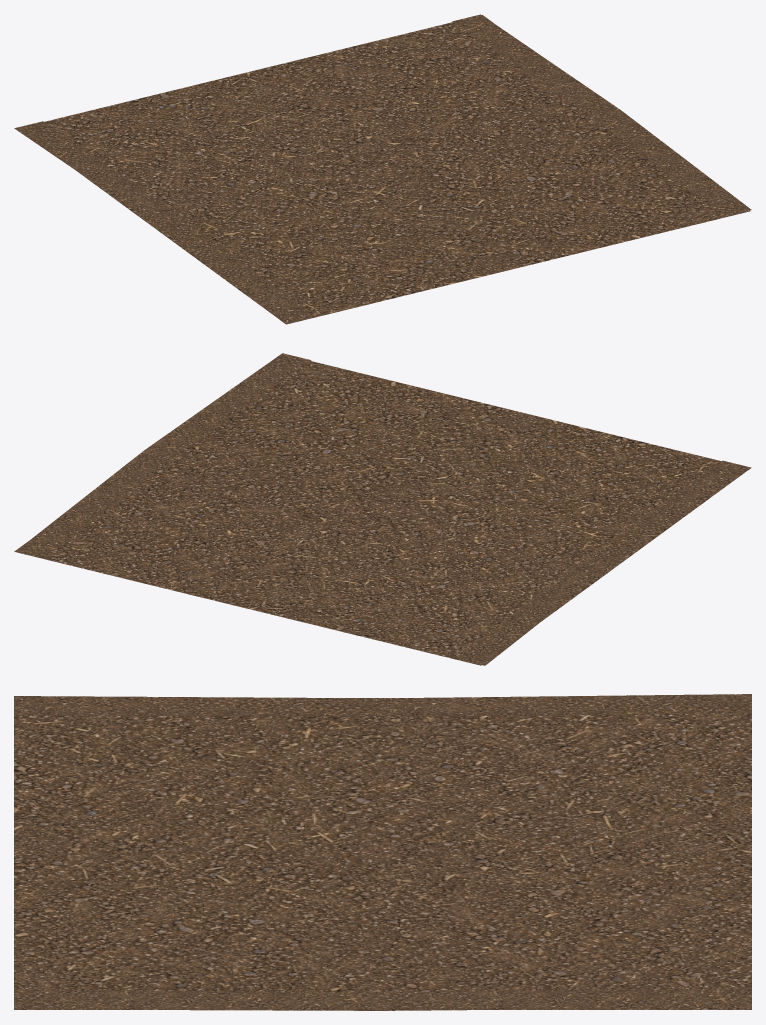
The model's file is Path_Tile_8.glb.
3 views of the same model, one above another, from view 1: azimuth 30°, elevation 25°; view 2: azimuth 150°, elevation 25°; view 3: azimuth 270°, elevation 25° (orthographic). The views are drawn at different scales.
Parts seen in each view (by area): view 1: HW_PathTile8_Export, HW_PathTile8_Shoulder_-1_Export, HW_PathTile8_Shoulder_1_Export; view 2: HW_PathTile8_Export, HW_PathTile8_Shoulder_1_Export, HW_PathTile8_Shoulder_-1_Export; view 3: HW_PathTile8_Export, HW_PathTile8_Shoulder_1_Export, HW_PathTile8_Shoulder_-1_Export.
Part boxes in pixels (x1=…): HW_PathTile8_Export: x1=44, y1=15, x2=750, y2=324; HW_PathTile8_Shoulder_-1_Export: x1=14, y1=121, x2=313, y2=323; HW_PathTile8_Shoulder_1_Export: x1=452, y1=14, x2=751, y2=216; HW_PathTile8_Export: x1=14, y1=361, x2=739, y2=665; HW_PathTile8_Shoulder_1_Export: x1=16, y1=353, x2=311, y2=558; HW_PathTile8_Shoulder_-1_Export: x1=456, y1=460, x2=751, y2=665; HW_PathTile8_Export: x1=14, y1=698, x2=751, y2=1009; HW_PathTile8_Shoulder_1_Export: x1=14, y1=988, x2=751, y2=1010; HW_PathTile8_Shoulder_-1_Export: x1=14, y1=694, x2=751, y2=716.
Bounding box in the file's own units: 8.15 × 0.025 × 8.
Materials: 2 (2 with a texture image).
